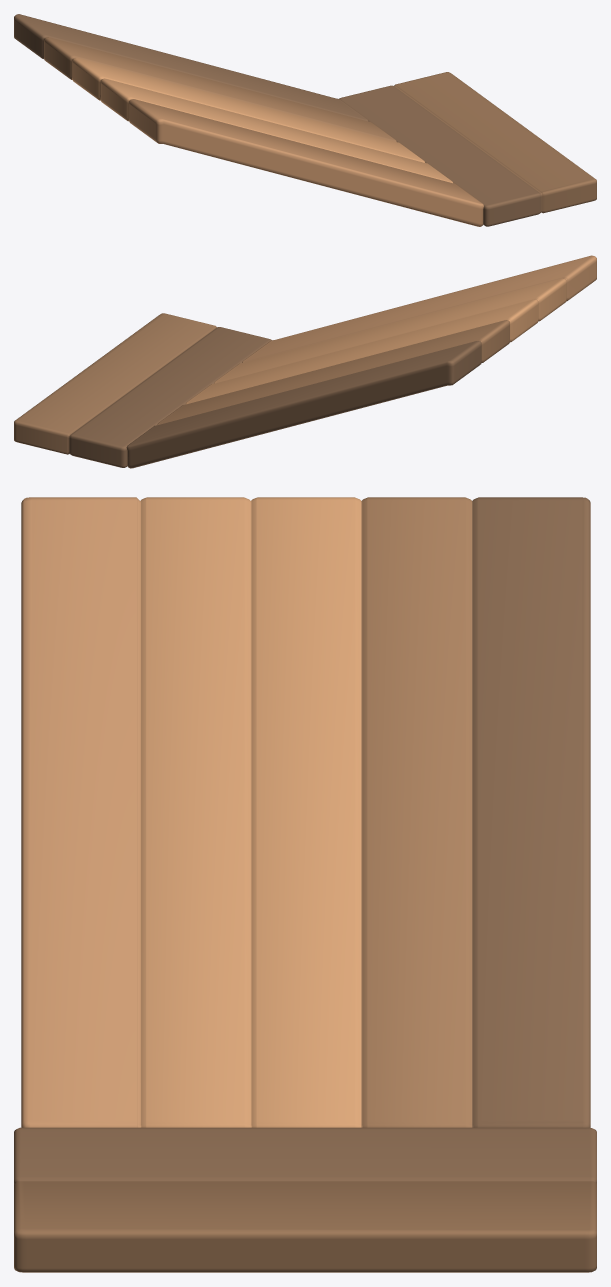
The model's file is HoopsRampFloor.fbx.
3 views of the same model, one above another, from view 1: azimuth 30°, elevation 25°; view 2: azimuth 150°, elevation 25°; view 3: azimuth 270°, elevation 25° (orthographic). The views are drawn at different scales.
Visible parts, largest first — view 1: ENv_S02_Ramp_MO_2, ENv_S02_Ramp_MO_3; view 2: ENv_S02_Ramp_MO_2, ENv_S02_Ramp_MO_3; view 3: ENv_S02_Ramp_MO_2, ENv_S02_Ramp_MO_3.
Part boxes in pixels (x1,y1,x2,y2): ENv_S02_Ramp_MO_2: (14,14,483,226); ENv_S02_Ramp_MO_3: (339,72,596,226); ENv_S02_Ramp_MO_2: (126,255,596,468); ENv_S02_Ramp_MO_3: (14,313,271,467); ENv_S02_Ramp_MO_2: (21,497,590,1127); ENv_S02_Ramp_MO_3: (14,1127,596,1272).
Size of the model in its own units: 20.01 by 8.09 by 11.82.
